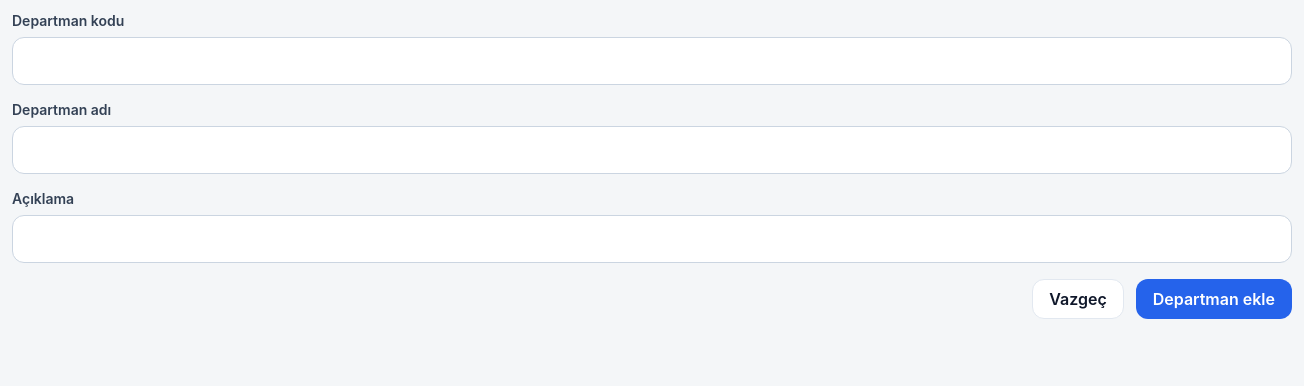
Test: DepartmentForm › shows validation errors for empty create fields
Click the button "Departman ekle" at {"x": 1214, "y": 299}, box [1136, 279, 1292, 319]
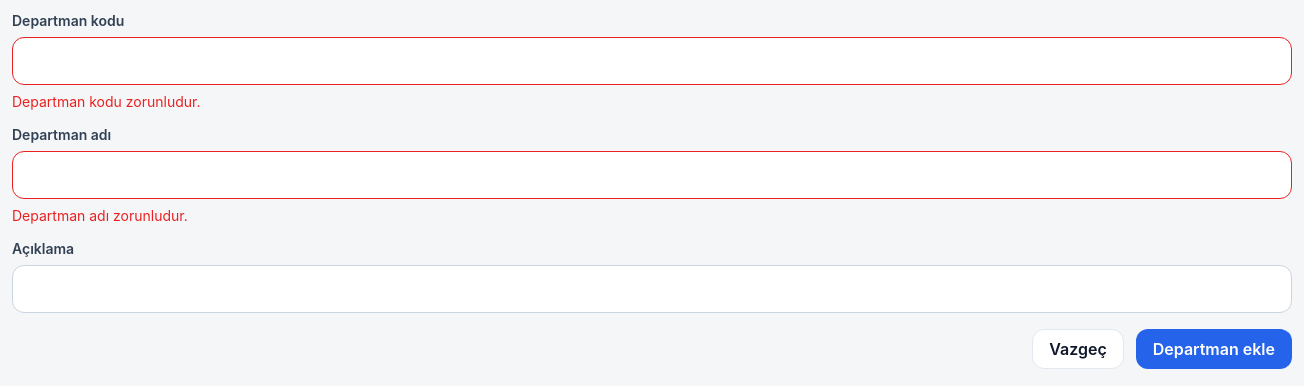
Expected: the text "Departman kodu zorunludur." is shown, [12, 93, 200, 110]
Expected: the text "Departman adı zorunludur." is shown, [12, 207, 188, 224]
